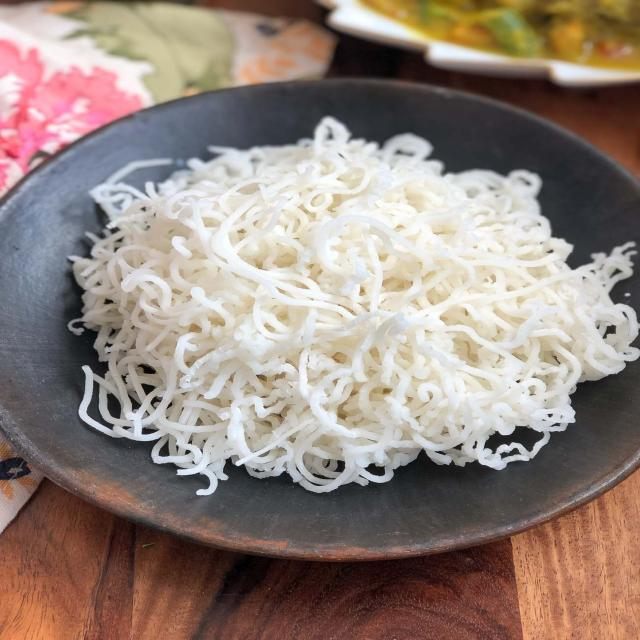IDIYAPPAM: (61, 117, 640, 498)
